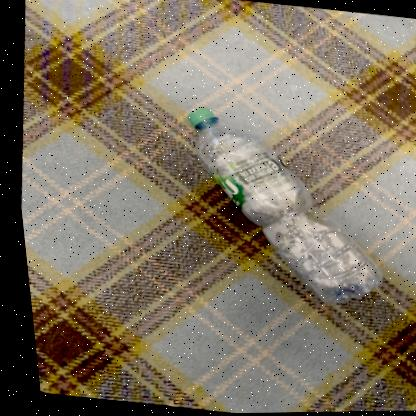Plastic: (184, 108, 375, 303)
